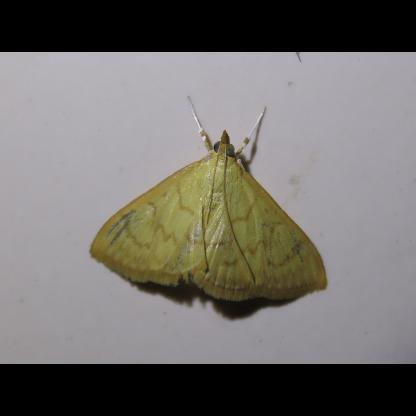Asian Corn Borer Moth: (87, 94, 330, 304)
